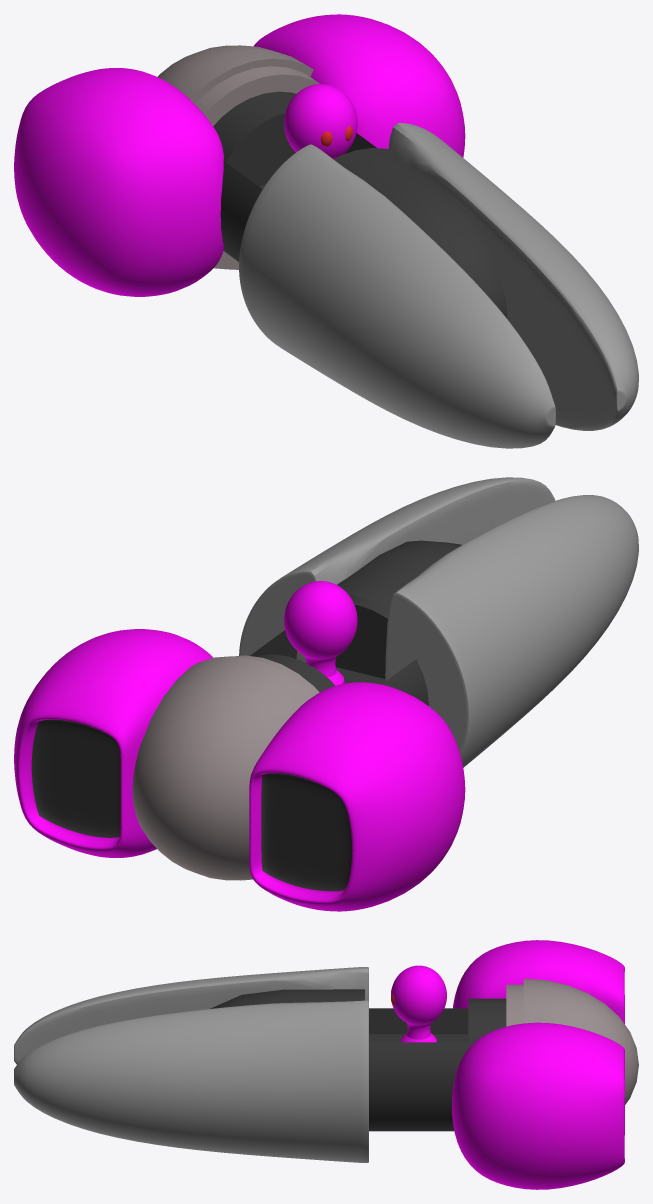
File: Vulture.fbx
3 renders of one model, top to bottom at view 1: azimuth 30°, elevation 25°; view 2: azimuth 150°, elevation 25°; view 3: azimuth 270°, elevation 25°, orthographic. The views are drawn at different scales.
Parts seen in each view (by area): view 1: Sphere.010, Cube.032, Sphere.008, Sphere.011; view 2: Cube.032, Sphere.010, Sphere.008, Sphere.011; view 3: Sphere.010, Cube.032, Sphere.008, Sphere.011.
Part boxes in pixels (x1,y1,x2,y2): Sphere.010: (239,123,638,448); Cube.032: (14,14,465,296); Sphere.008: (158,45,507,318); Sphere.011: (284,84,357,159); Cube.032: (14,629,465,911); Sphere.010: (239,477,638,767); Sphere.008: (132,540,461,880); Sphere.011: (284,581,357,685); Sphere.010: (14,967,368,1162); Cube.032: (452,940,624,1189); Sphere.008: (210,978,638,1131); Sphere.011: (391,965,446,1042).
Bounding box in the file's own units: 161 × 88.1 × 281.
